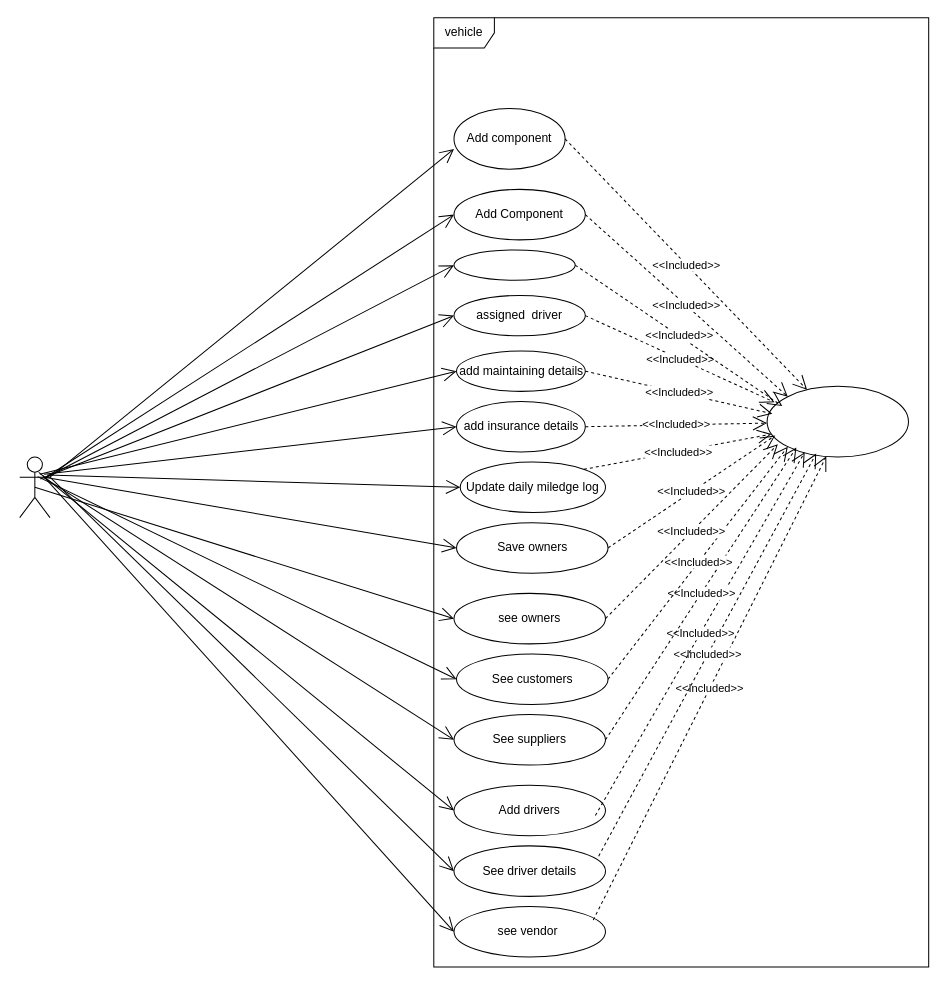
Image size: 946x985. Some labels were removed from this diagram. Here are the shapes that lost their labels. From the top down, the centre of each, then its label:
[514,264]: save booking
[837,421]: Loging
[34,487]: Admin
